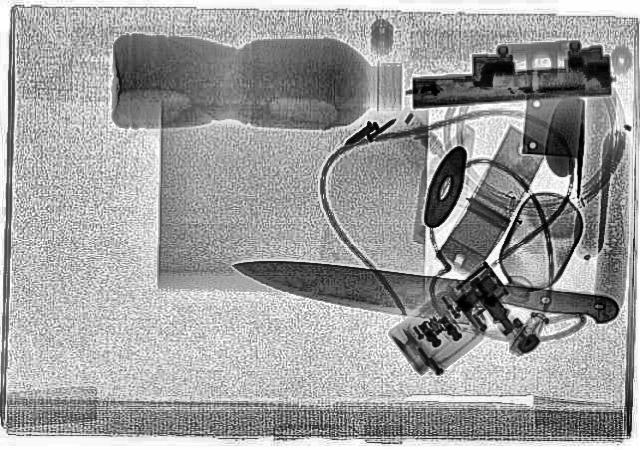Knife: (222, 245, 620, 343)
